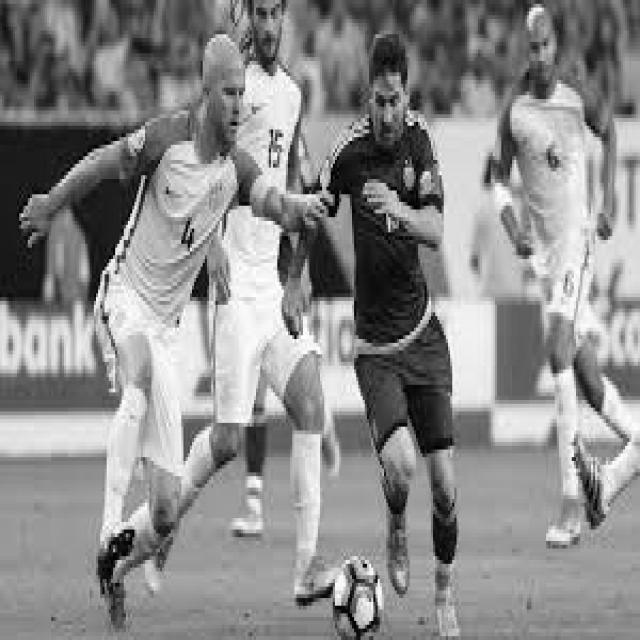football: (331, 549, 383, 640)
